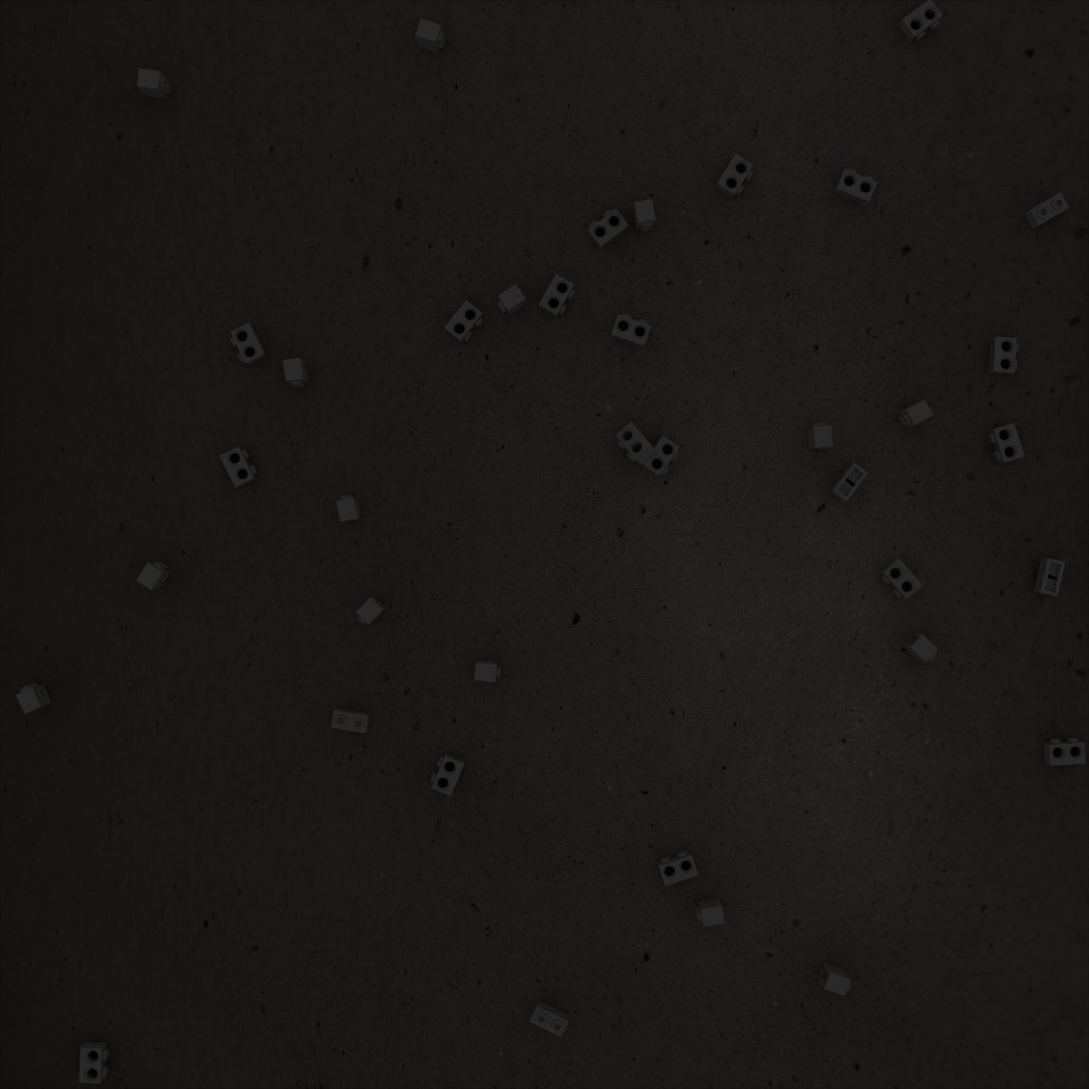lego: (898, 0, 943, 42), (615, 421, 657, 465), (715, 153, 754, 199), (587, 208, 629, 250), (880, 558, 923, 599), (1023, 192, 1070, 229), (444, 300, 484, 343), (834, 168, 878, 206), (641, 435, 680, 477), (538, 274, 576, 317), (230, 322, 268, 365), (829, 462, 869, 502), (219, 446, 257, 488), (988, 423, 1025, 464), (430, 753, 465, 796), (529, 1000, 569, 1037), (657, 851, 699, 886), (610, 313, 651, 348), (79, 1042, 109, 1084), (988, 336, 1019, 375), (1034, 558, 1065, 596), (1044, 738, 1086, 766), (818, 962, 852, 996), (16, 683, 53, 714), (137, 68, 171, 99), (415, 18, 445, 53), (902, 633, 938, 662), (898, 399, 934, 428), (136, 561, 171, 590), (331, 708, 371, 733), (497, 284, 526, 316), (356, 596, 387, 625), (695, 898, 725, 927), (632, 199, 656, 232), (283, 358, 309, 387), (807, 422, 833, 450), (336, 495, 362, 522), (474, 660, 501, 682)
